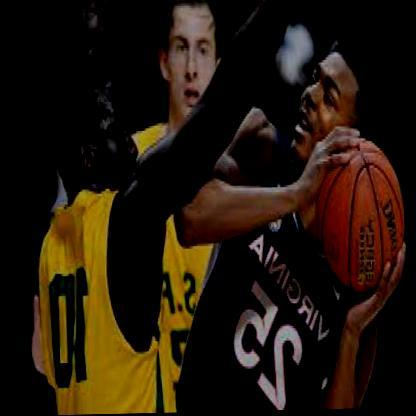basketball: (310, 139, 407, 297)
